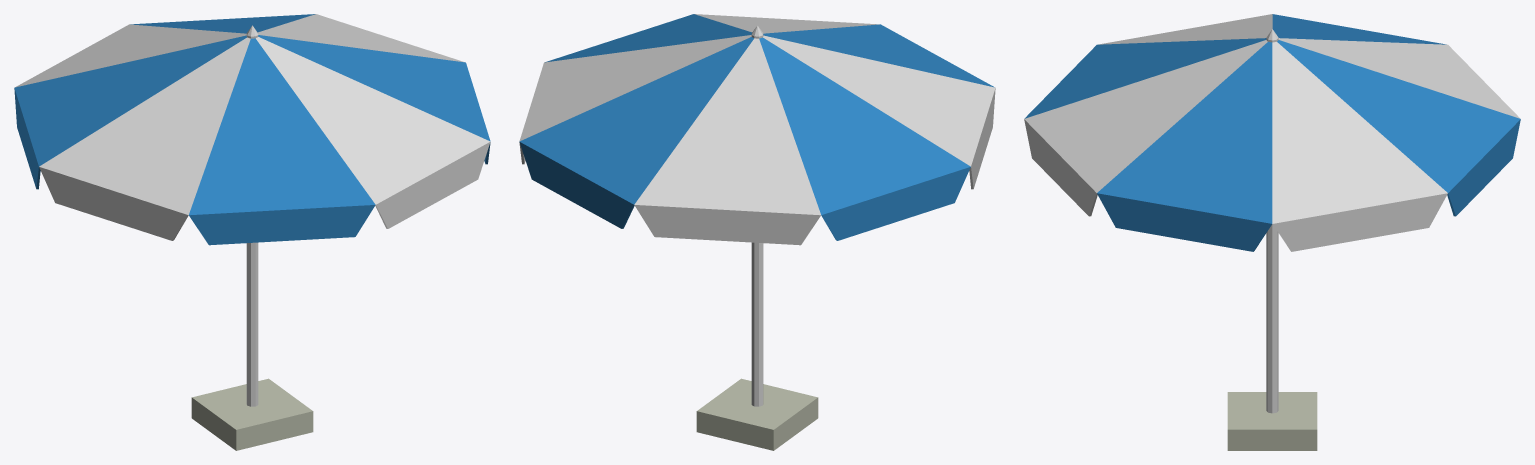
The model's file is Umbrella_Blue_vc.fbx.
3 renders of one model, left to right at view 1: azimuth 30°, elevation 25°; view 2: azimuth 150°, elevation 25°; view 3: azimuth 270°, elevation 25°, orthographic.
Visible parts, largest first — view 1: Umbrella_Blue_vc; view 2: Umbrella_Blue_vc; view 3: Umbrella_Blue_vc.
Boxes of the visible parts, x1,y1,x2,y2 form: Umbrella_Blue_vc: [14, 14, 490, 450]; Umbrella_Blue_vc: [519, 14, 995, 450]; Umbrella_Blue_vc: [1024, 14, 1520, 450].
Bounding box in the file's own units: 584 × 523 × 584.
